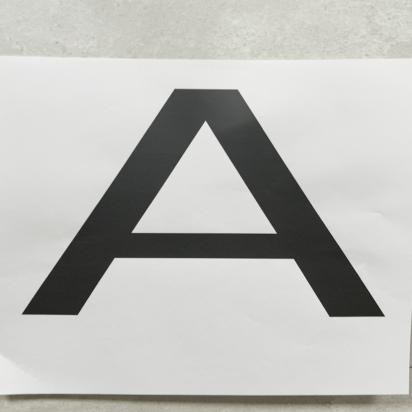seat: (3, 74, 412, 323)
